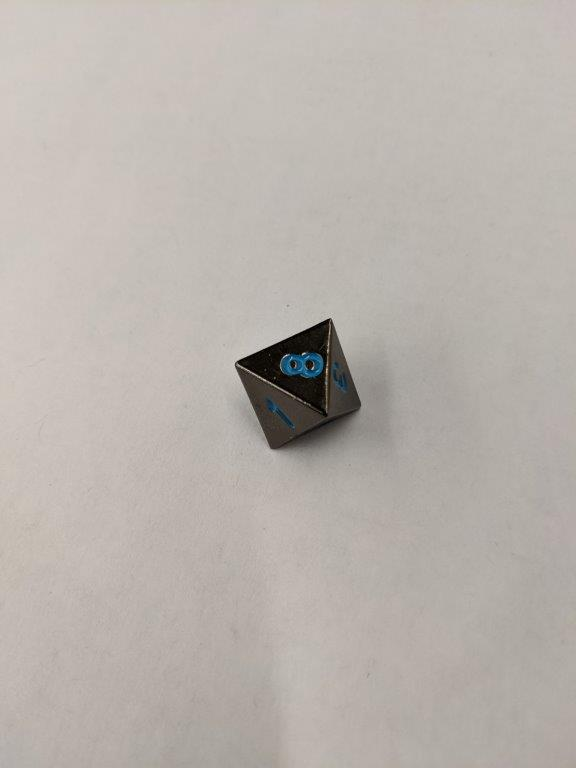d8-8: (234, 320, 362, 452)
